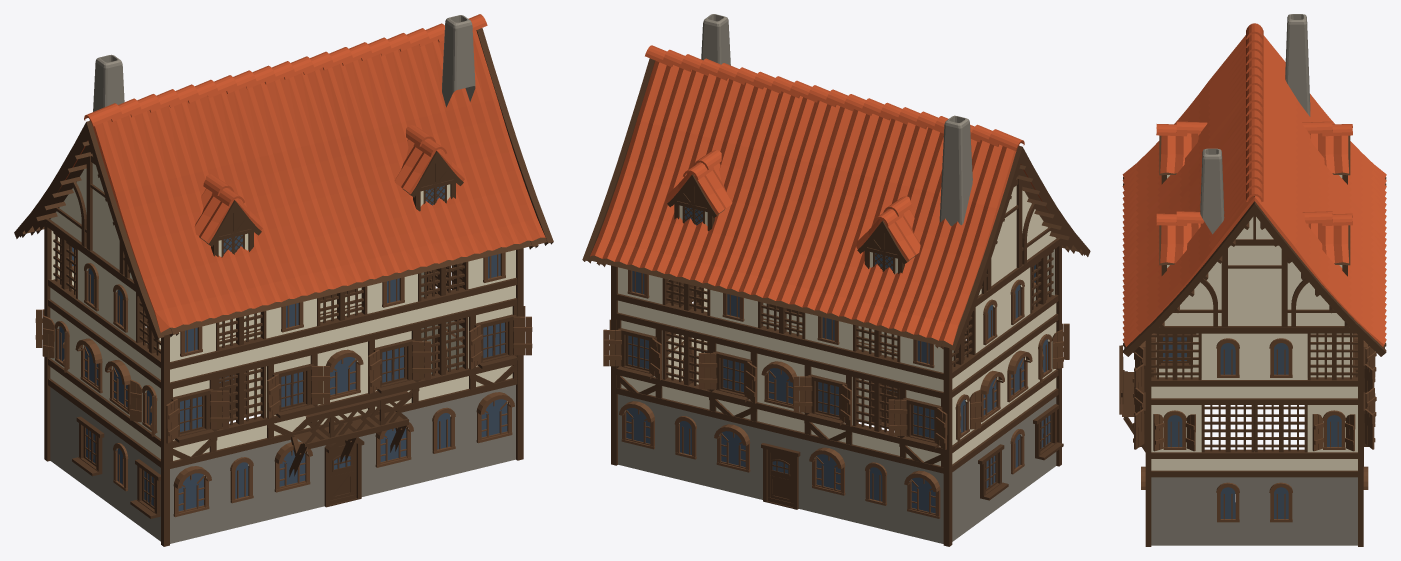
Rendered from guildhall.obj.
The picture shows the model from 3 angles, left to right: view 1: azimuth 30°, elevation 25°; view 2: azimuth 150°, elevation 25°; view 3: azimuth 270°, elevation 25°; orthographic projection. The views are drawn at different scales.
Size of the model in its own units: 15.71 by 15.91 by 10.08.
